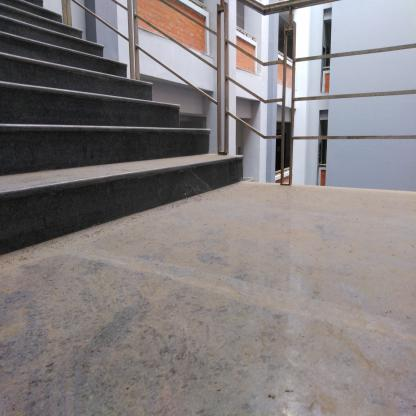stairs: (1, 44, 105, 248)
